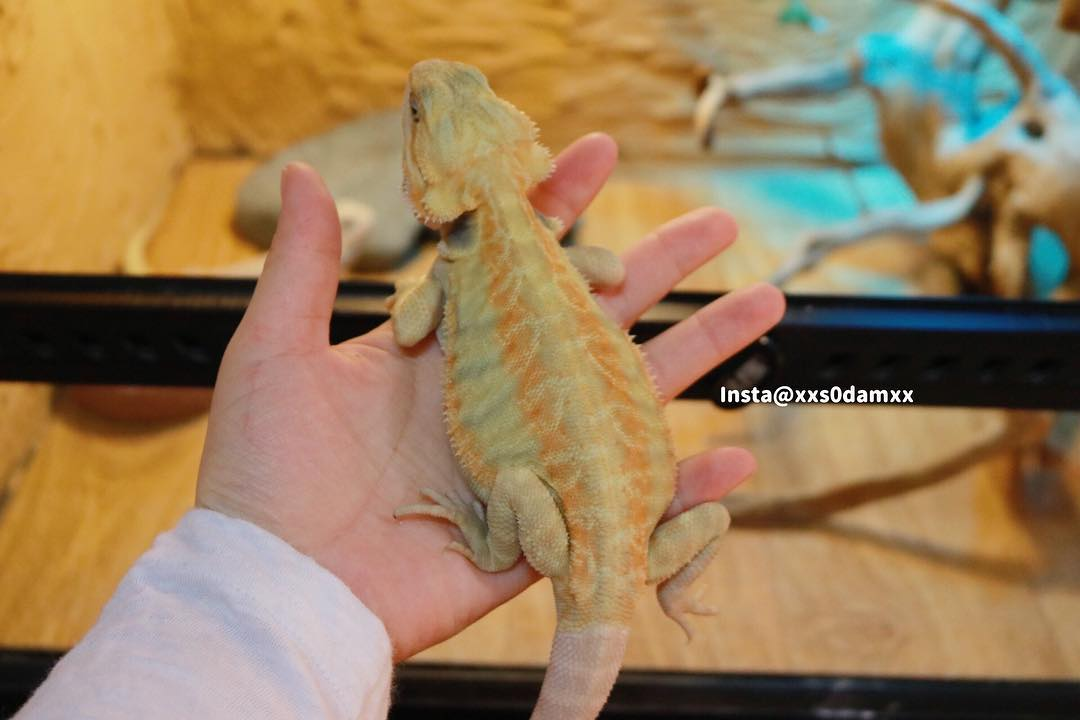bearded: (374, 57, 737, 720)
